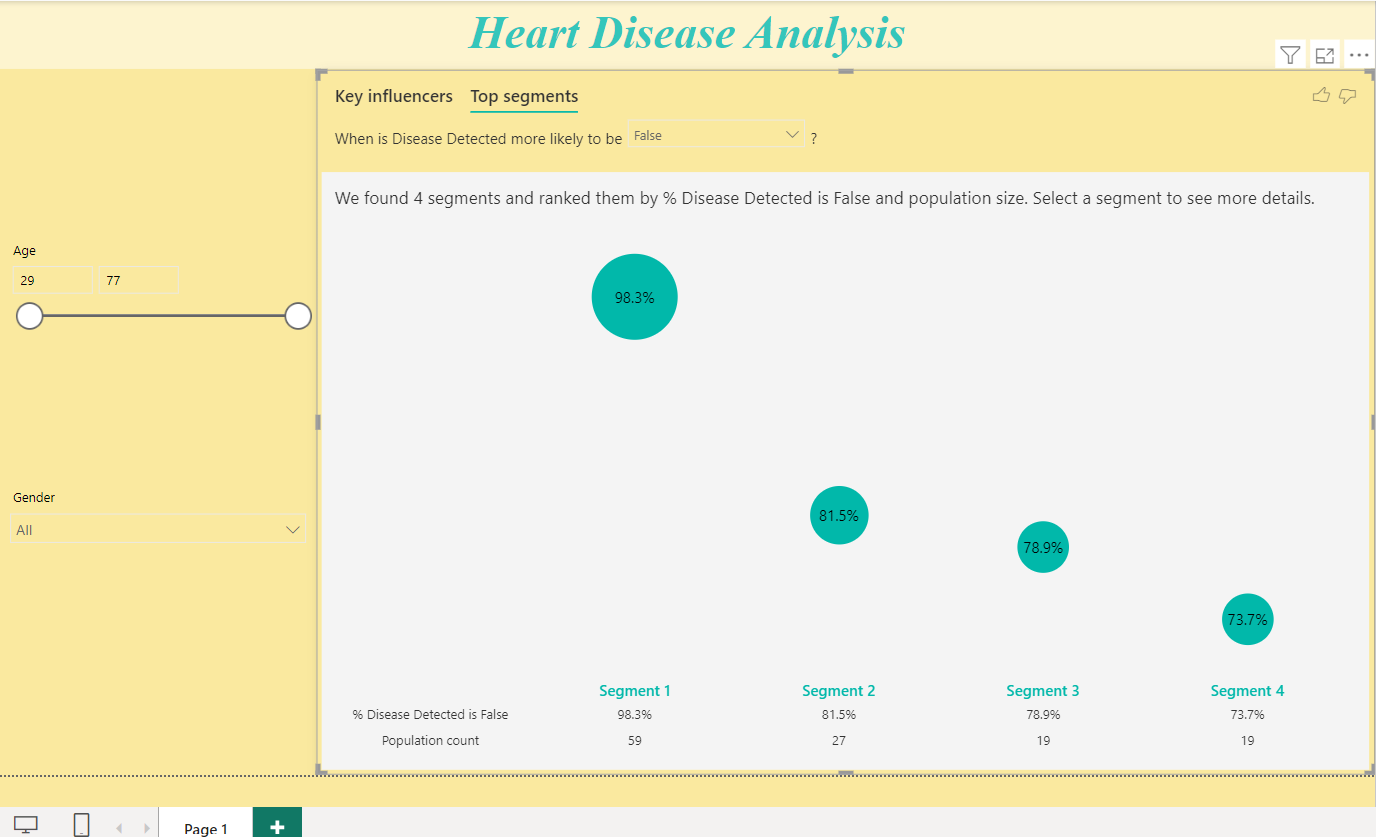

The page's visual inventory and layout, read from the dashboard file:
{"tool":"powerbi","page":{"name":"Page 1","canvas":[1280,720],"ordinal":0},"visuals":[{"type":"keyDriversVisual","fields":{"Target":["Heart disease.Disease Detected"],"ExplainBy":["Sum(Heart disease.Age)","Heart disease.Gender","Sum(Heart disease.Chest Pain Type)","Sum(Heart disease.Maximum Heart Rate Achieved)","Heart disease.Fasting Blood Sugar Level greater than Normal","Sum(Heart disease.Resting Electrocardiographic Results)","Sum(Heart disease.Resting Blood Pressure)","Sum(Heart disease.Serum Cholesterol Level)","Heart disease.Exercise Induced Angina","Sum(Heart disease.Number of Major Vessels)","Sum(Heart disease.Slope of the Peak Exercise ST Segment)","Sum(Heart disease.ST Depression Induced by Exercise relative to Rest)"]},"box":[295.8,63.6,984,656.4],"z":0},{"type":"slicer","fields":{"Values":["Heart disease.Age"]},"box":[0,218.8,299.5,102.7],"z":1000},{"type":"slicer","fields":{"Values":["Heart disease.Gender"]},"box":[0,448.6,295.8,86.8],"z":2000},{"type":"textbox","box":[0,0,1279.9,63.6],"z":3000}]}

Visuals, with their boxes on the page's 1280x720 design canvas (x1, y1, x2, y2). These are canvas units, not pixel positions in the 1376x837 screenshot, which may show the page scaled, cropped or inside an application window:
keyDriversVisual - Heart disease.Disease Detected x Sum(Heart disease.Age): <region>296, 64, 1280, 720</region>
slicer - Heart disease.Age: <region>0, 219, 300, 322</region>
slicer - Heart disease.Gender: <region>0, 449, 296, 535</region>
textbox: <region>0, 0, 1280, 64</region>
